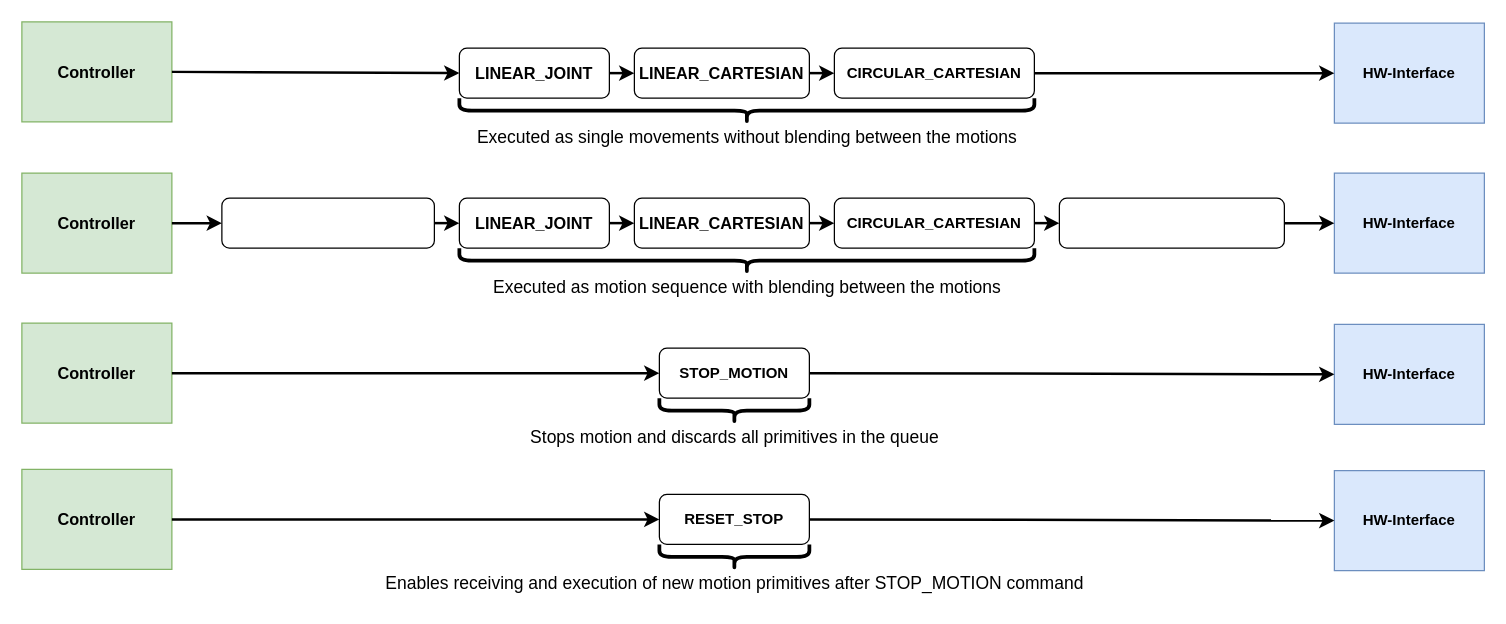
This 1506x624 diagram has some shape labels left out. The box of each missing label's shape, as (x1, y1, x2, y2) in pixels:
MOTION_SEQUENCE_END: (221, 197, 434, 248)
MOTION_SEQUENCE_START: (1058, 197, 1284, 248)
